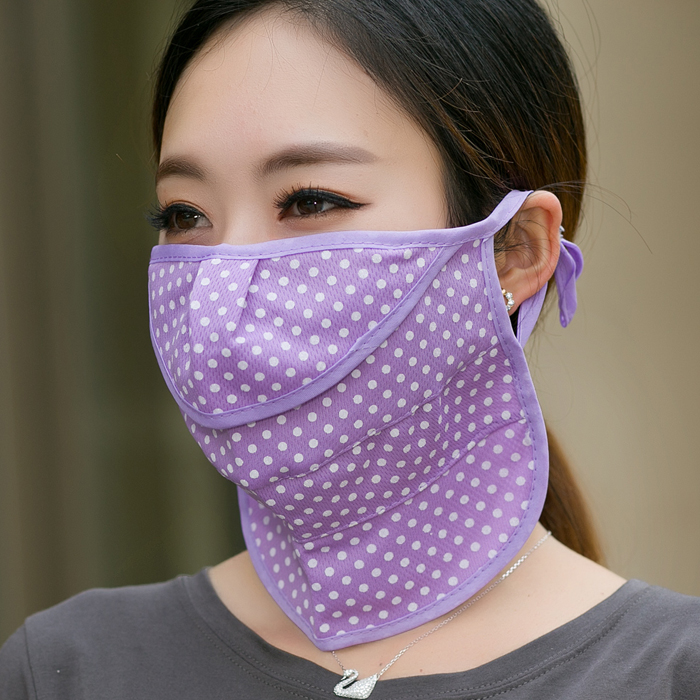face_mask: (142, 35, 458, 477)
